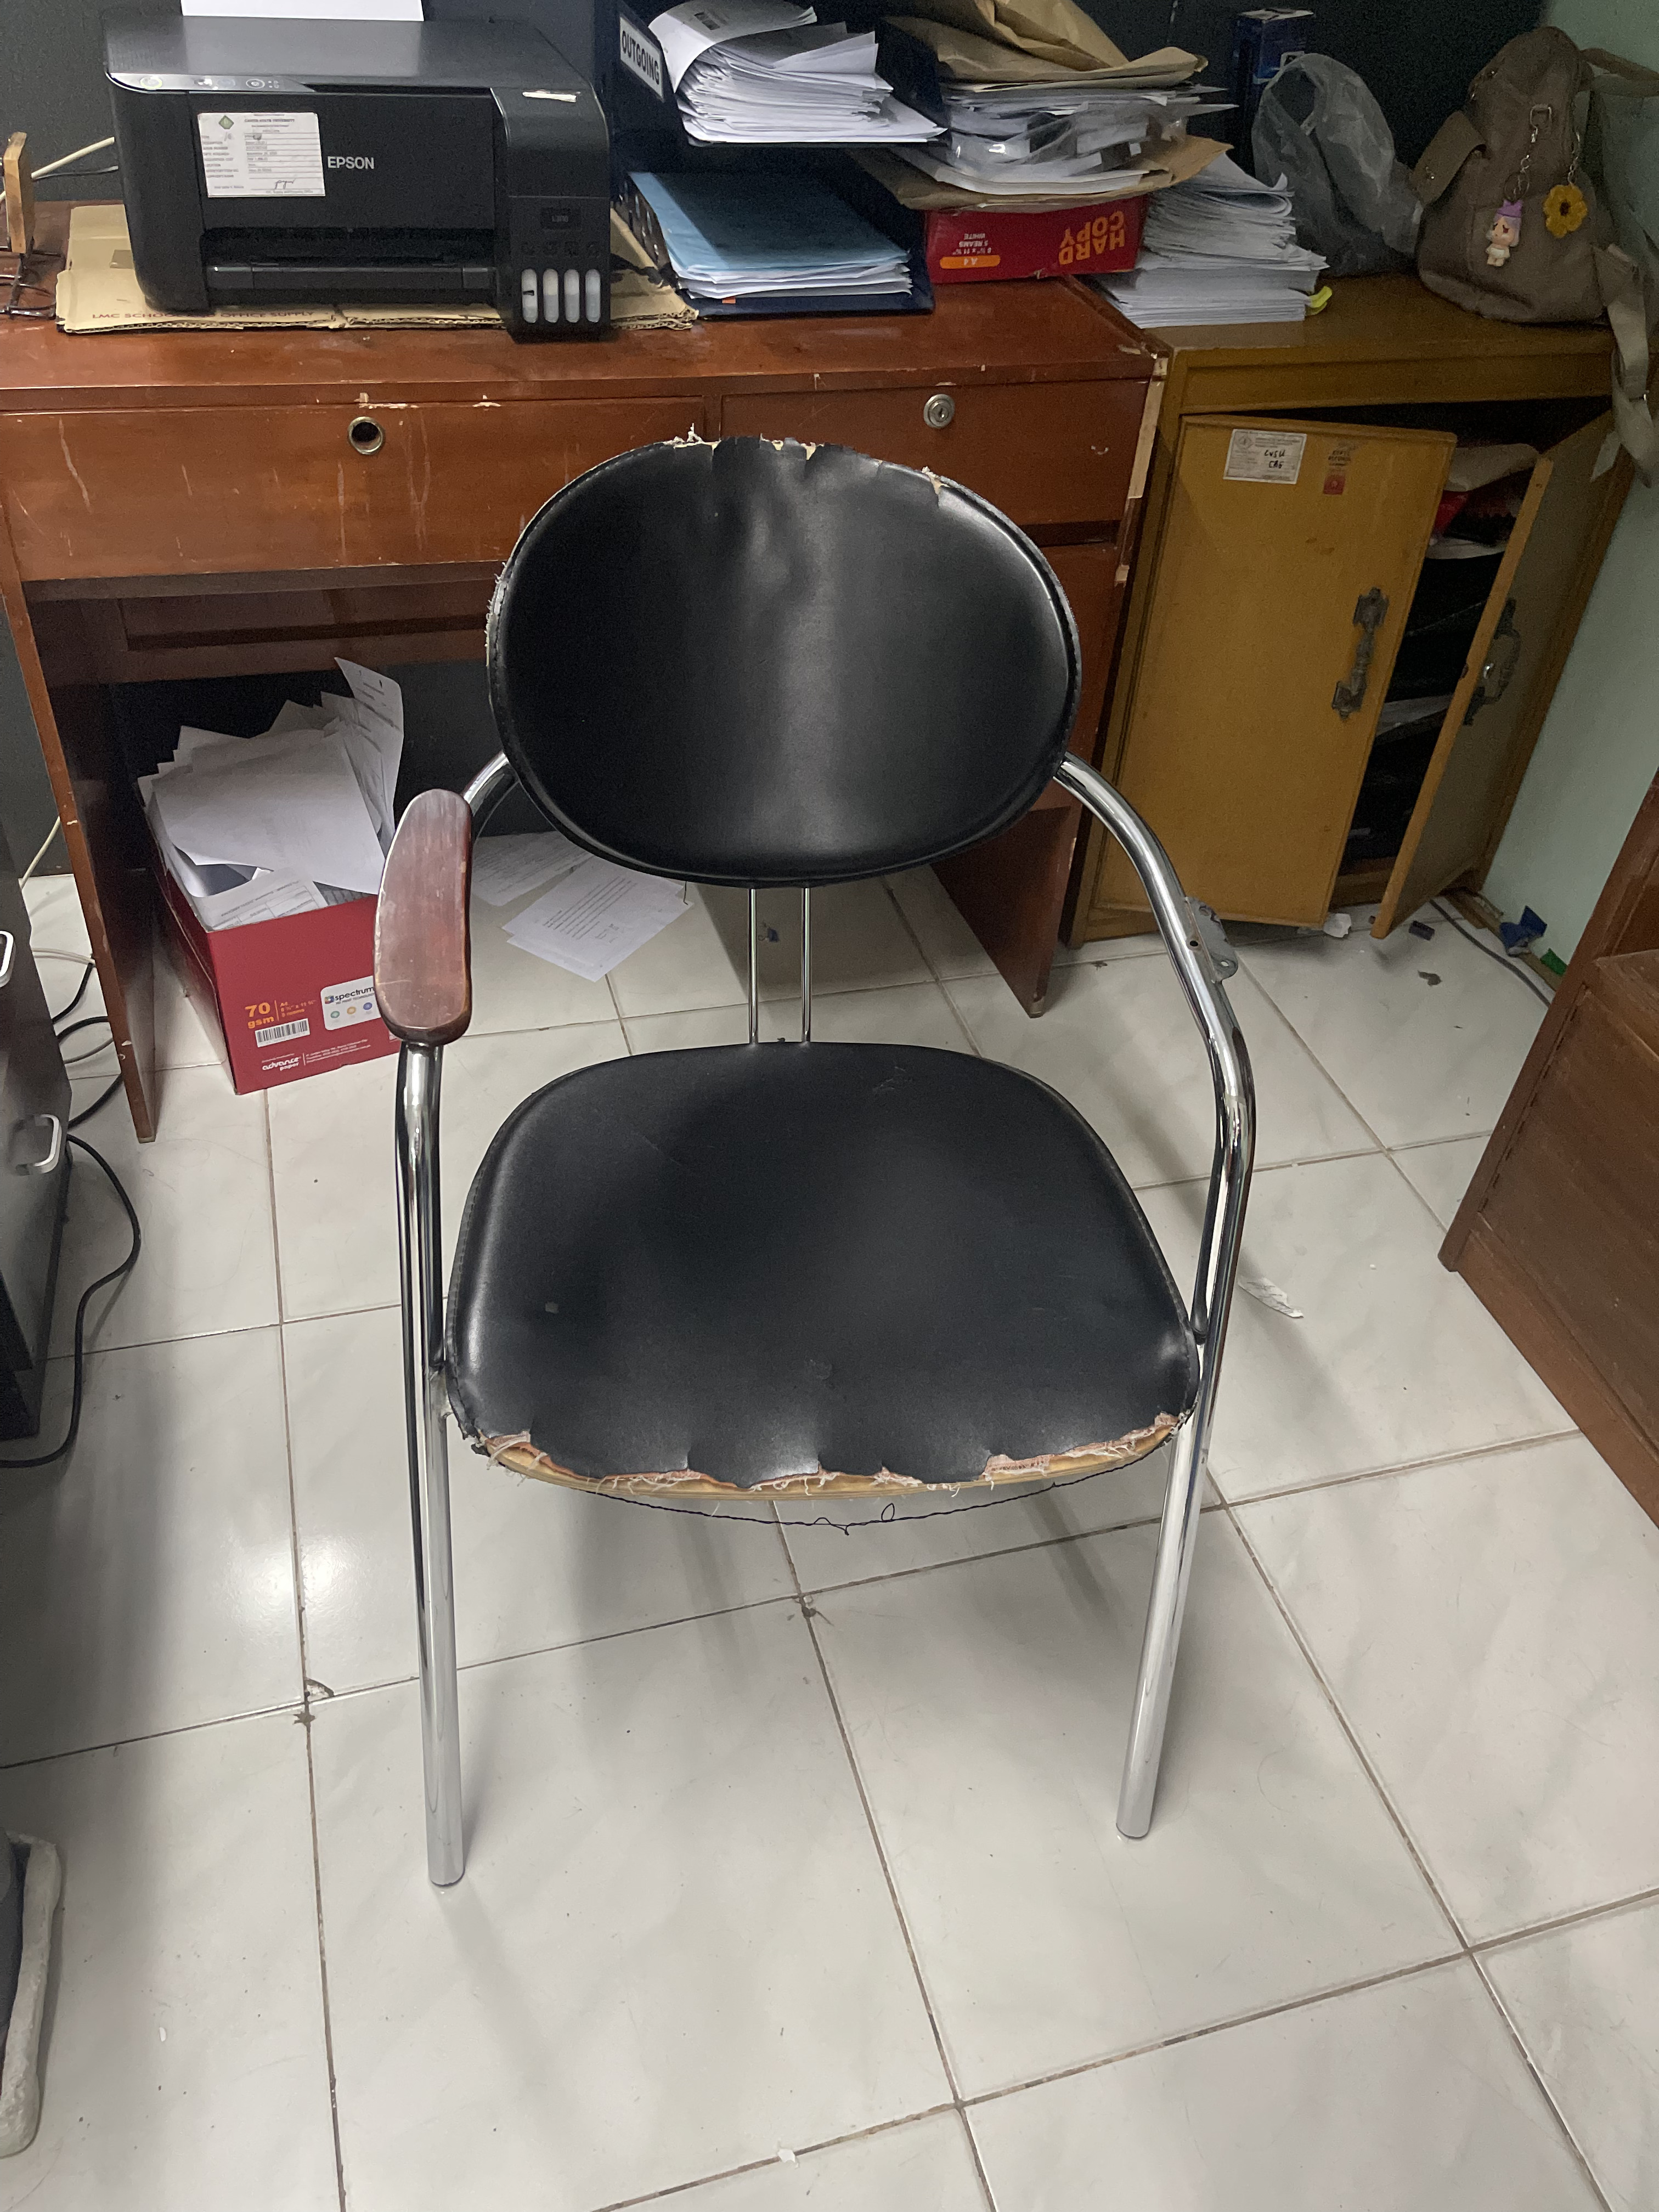chair1: (366, 434, 1272, 1902)
